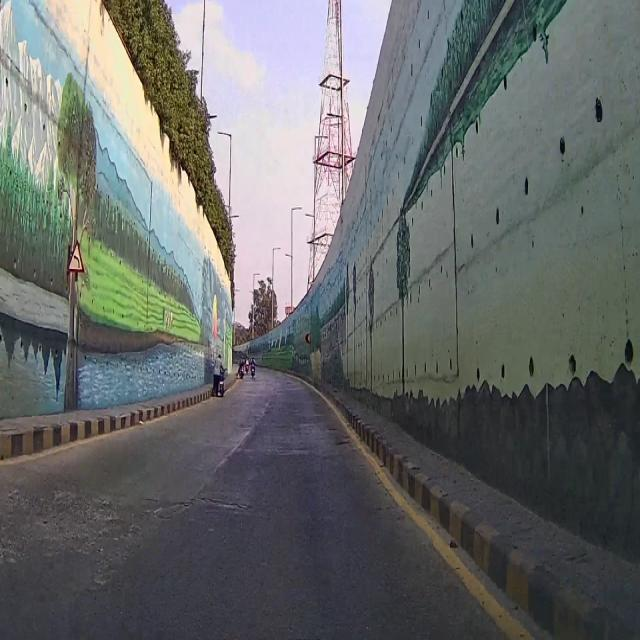left-hand-curve: (70, 240, 84, 272)
